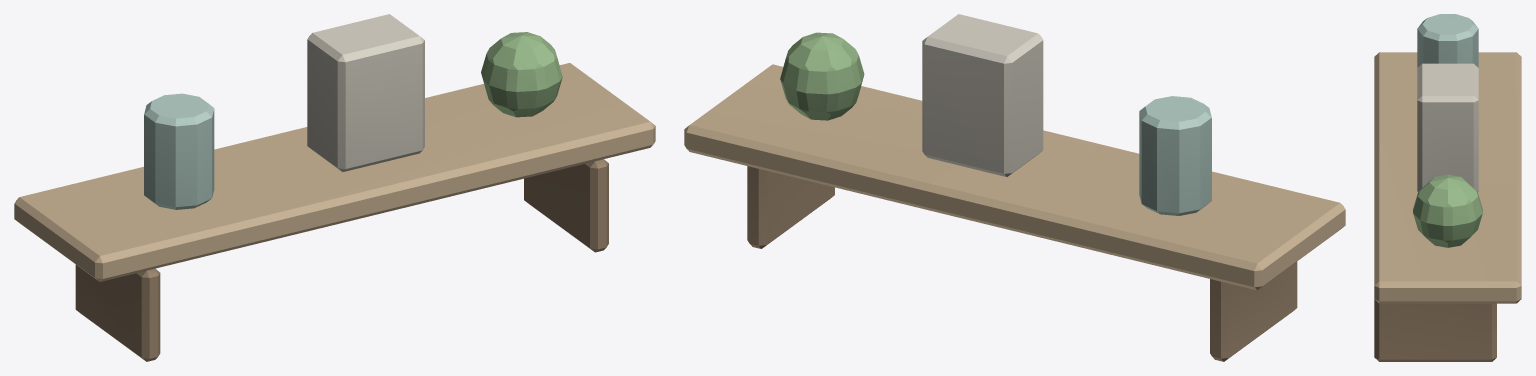
Rendered from furn_wall_shelf__oak.glb.
3 views of the same model, side by side, from view 1: azimuth 30°, elevation 25°; view 2: azimuth 150°, elevation 25°; view 3: azimuth 270°, elevation 25° (orthographic). The views are drawn at different scales.
Size of the model in its own units: 0.9 by 0.36 by 0.24.
